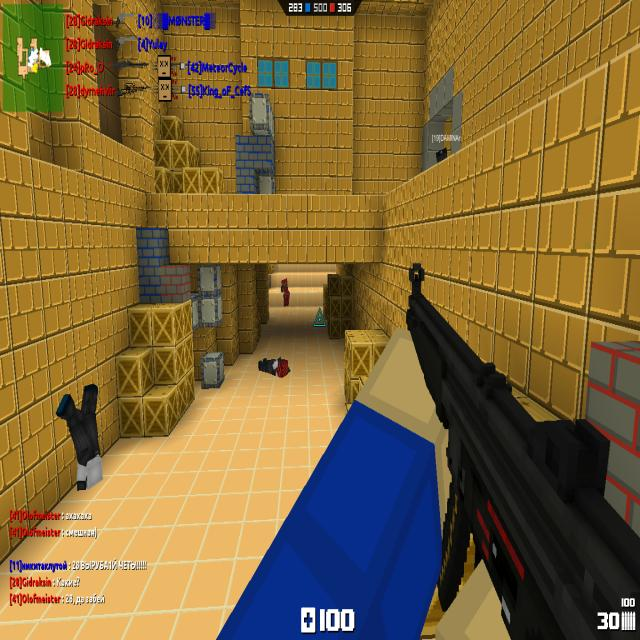enemy: (281, 278, 290, 307)
